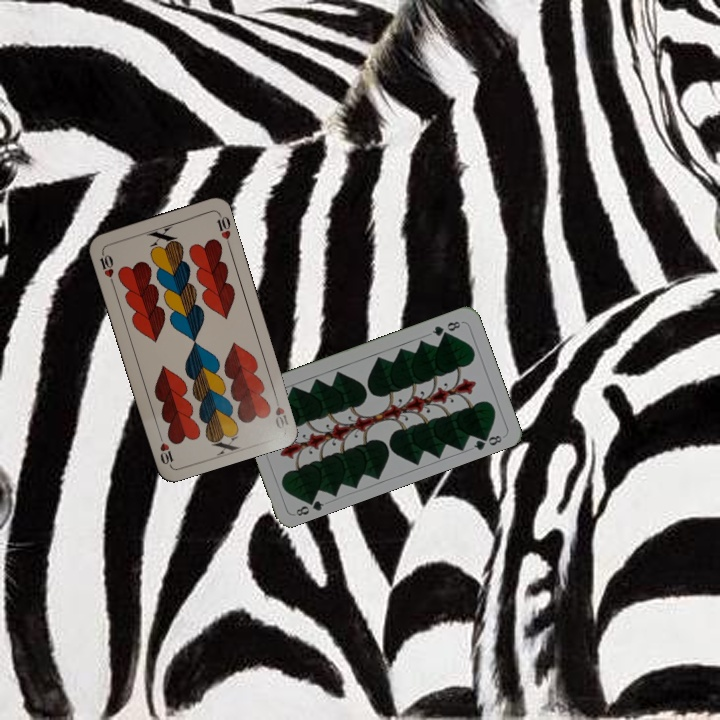G8: (290, 493, 326, 519), (428, 317, 463, 339)
H10: (270, 391, 291, 431), (96, 247, 116, 287)
